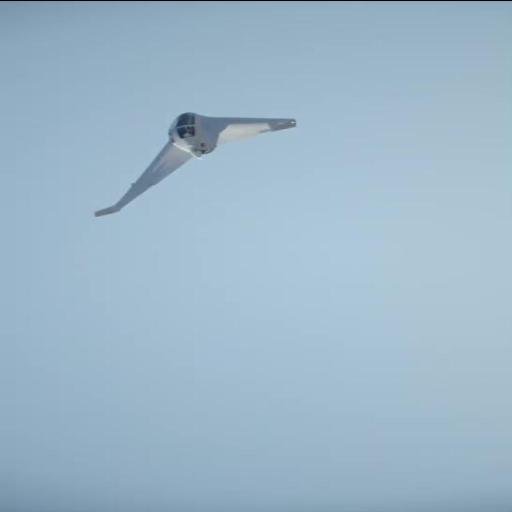uav: (90, 110, 307, 216)
